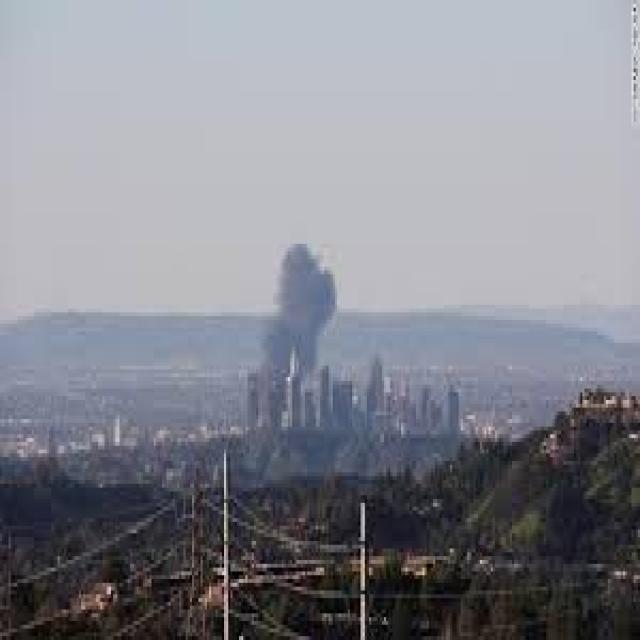Smoke: (272, 238, 341, 350)
